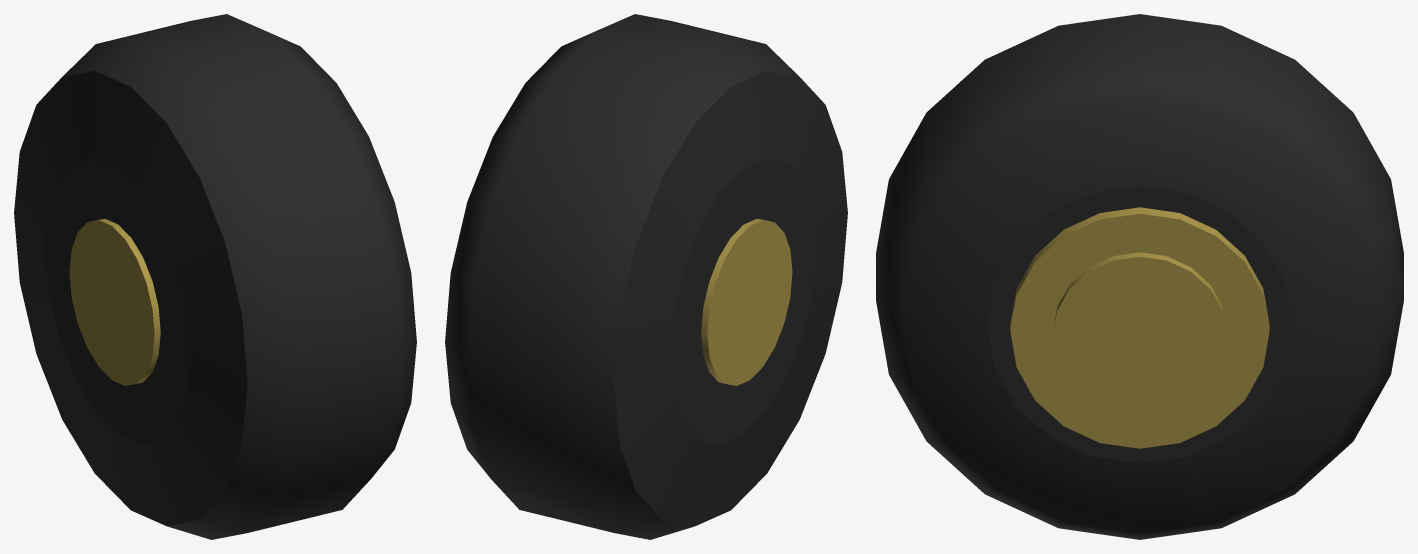
The model's file is SM_WHEEL.fbx.
3 views of the same model, side by side, from view 1: azimuth 30°, elevation 25°; view 2: azimuth 150°, elevation 25°; view 3: azimuth 270°, elevation 25° (orthographic). The views are drawn at different scales.
Visible parts, largest first — view 1: pCylinder16; view 2: pCylinder16; view 3: pCylinder16.
Boxes of the visible parts, x1=… form: pCylinder16: x1=14, y1=14, x2=416, y2=539; pCylinder16: x1=445, y1=14, x2=847, y2=539; pCylinder16: x1=876, y1=14, x2=1403, y2=539.
Bounding box in the file's own units: 0.7807 × 1.55 × 1.55.
